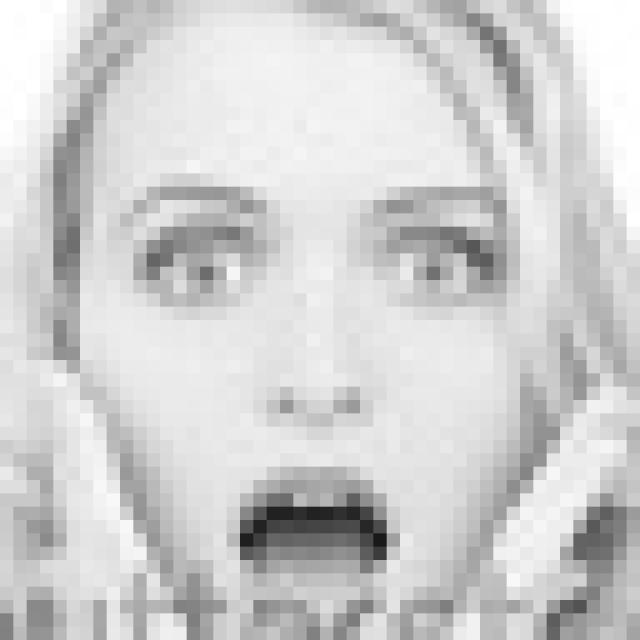surprise: (111, 170, 512, 596)
